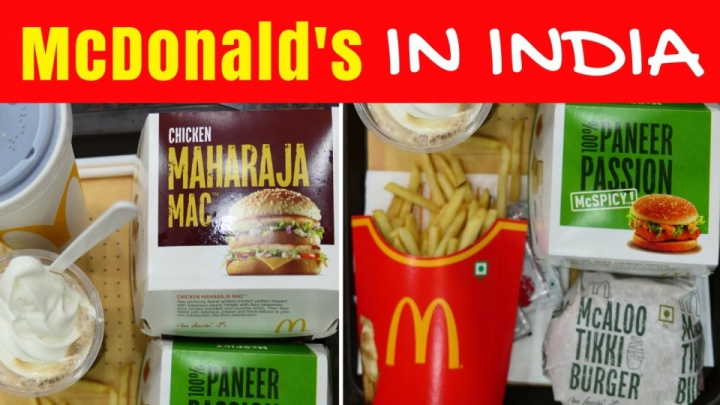mcdonalds: (374, 288, 478, 375)
